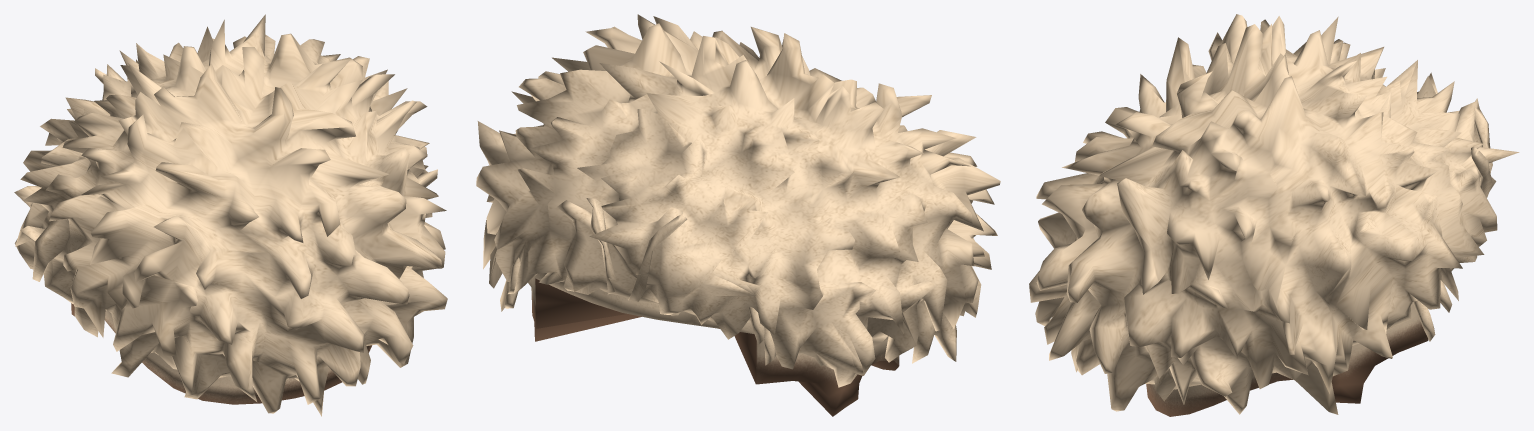
Rendered from 40-Blonde-Over-Sponged-Sharp-Short-Afro-123620270798051.glb.
3 renders of one model, left to right at view 1: azimuth 30°, elevation 25°; view 2: azimuth 150°, elevation 25°; view 3: azimuth 270°, elevation 25°, orthographic. The views are drawn at different scales.
Visible parts, largest first — view 1: 40-Blonde-Over-Sponged-Sharp-Short-Afro-123620270798051; view 2: 40-Blonde-Over-Sponged-Sharp-Short-Afro-123620270798051; view 3: 40-Blonde-Over-Sponged-Sharp-Short-Afro-123620270798051.
Boxes of the visible parts, x1,y1,x2,y2 form: 40-Blonde-Over-Sponged-Sharp-Short-Afro-123620270798051: [14, 14, 447, 416]; 40-Blonde-Over-Sponged-Sharp-Short-Afro-123620270798051: [476, 14, 1000, 416]; 40-Blonde-Over-Sponged-Sharp-Short-Afro-123620270798051: [1029, 14, 1519, 416].
Size of the model in its own units: 1.85 by 1.38 by 1.81.
Materials: 1 (1 with a texture image).
